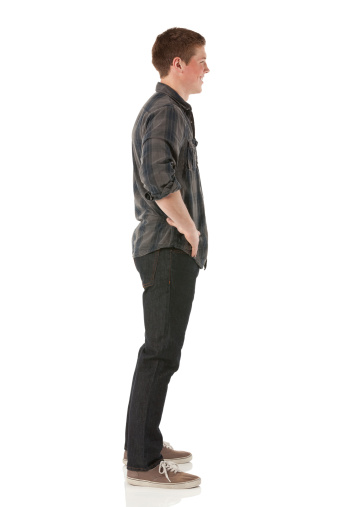em pe: (100, 16, 229, 500)
